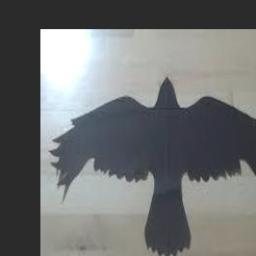Crow: (50, 76, 256, 256)
